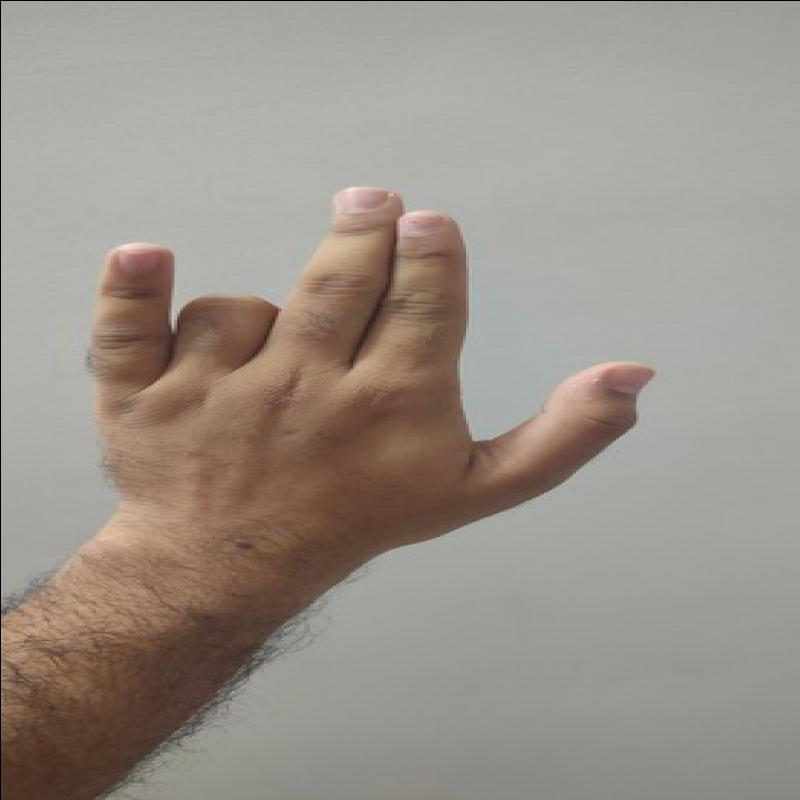Pathaaka: (86, 153, 668, 601)
